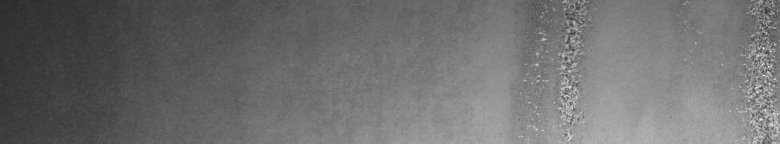hc: (698, 4, 776, 136)
